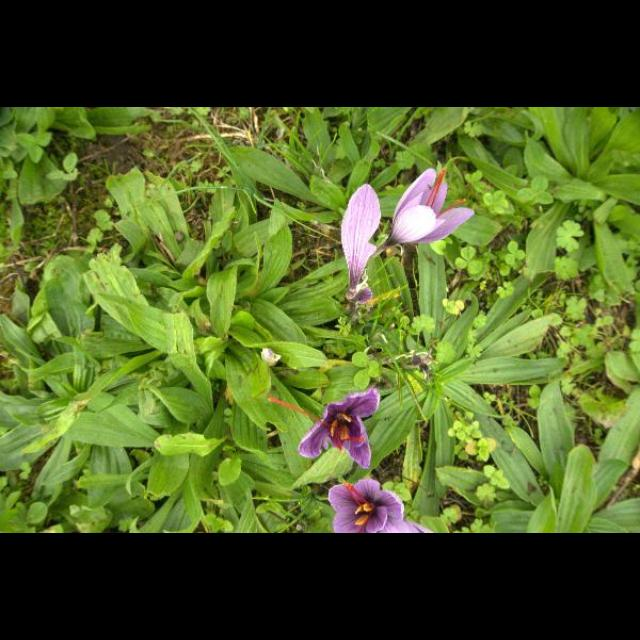flower: (269, 386, 381, 469), (388, 168, 476, 246)
